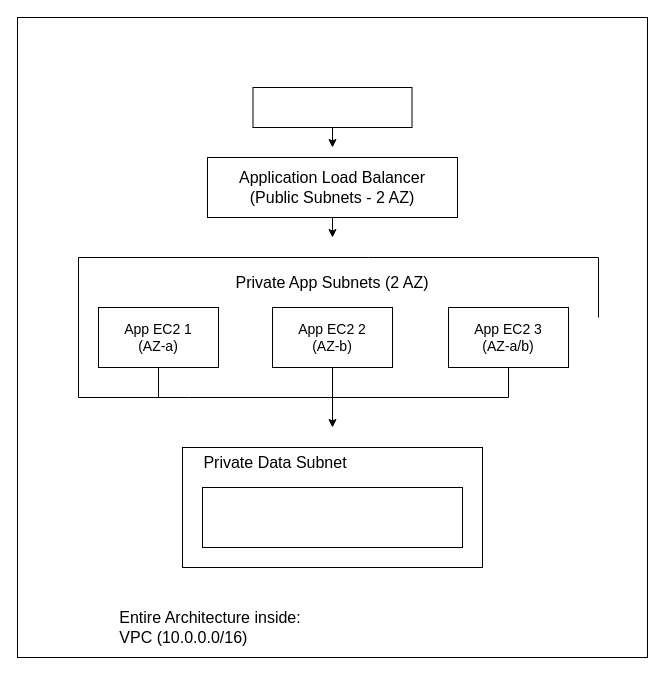
Image size: 665x675. Some labels were removed from this diagram. Here are the shapes that lost their labels. From the top down, the centre of each, then its label:
At pixel 332 107: "Internet".
At pixel 332 517: "Database EC2 (Port 3306 internal)".
